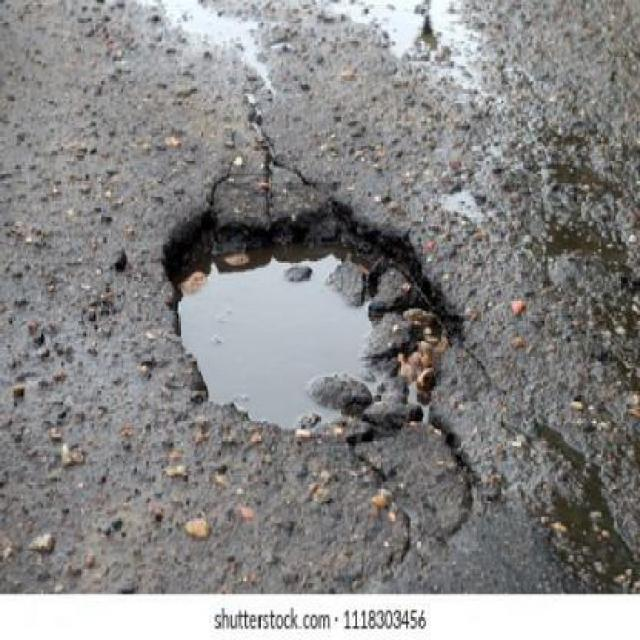Pothole: (160, 197, 458, 441)
